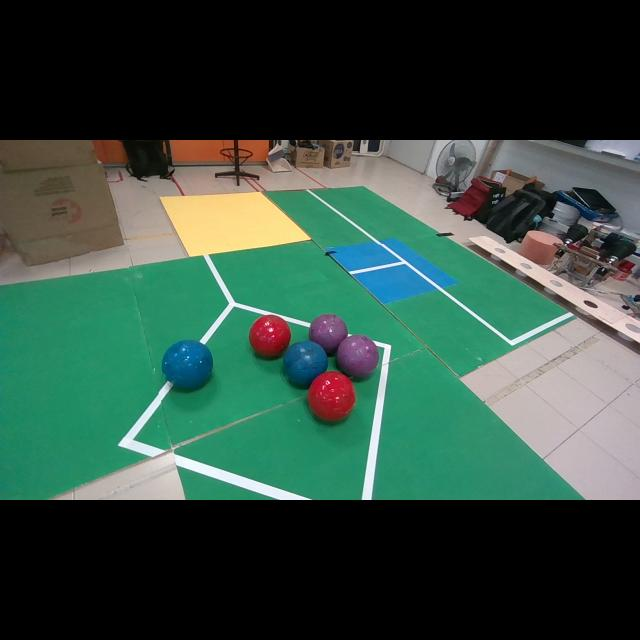B: (161, 340, 212, 390), (284, 340, 328, 388)
P: (338, 335, 379, 377), (309, 314, 348, 354)
R: (308, 371, 356, 421), (249, 315, 291, 358)
